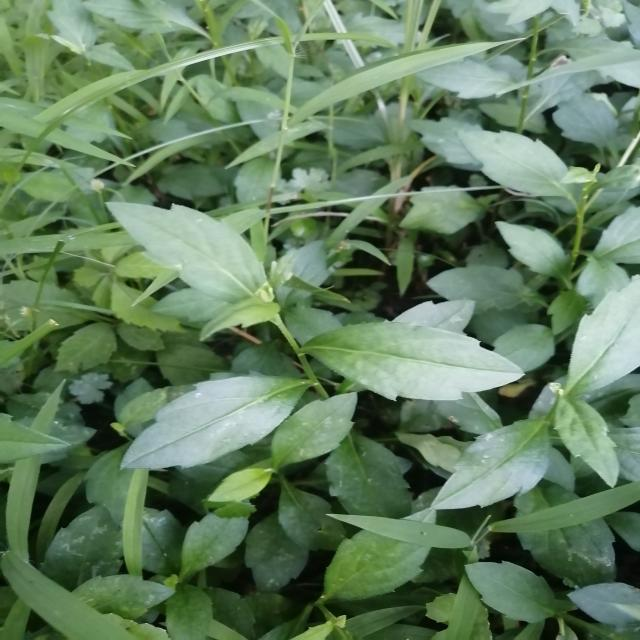Indian aster: (125, 203, 483, 473)
